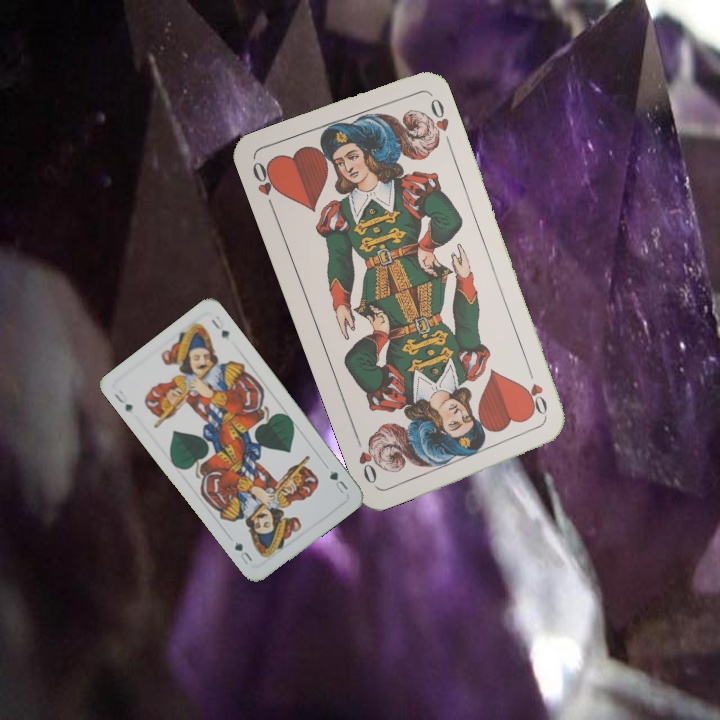GU: (325, 466, 351, 497), (110, 387, 135, 415)
HO: (248, 157, 281, 214), (524, 365, 550, 423)
